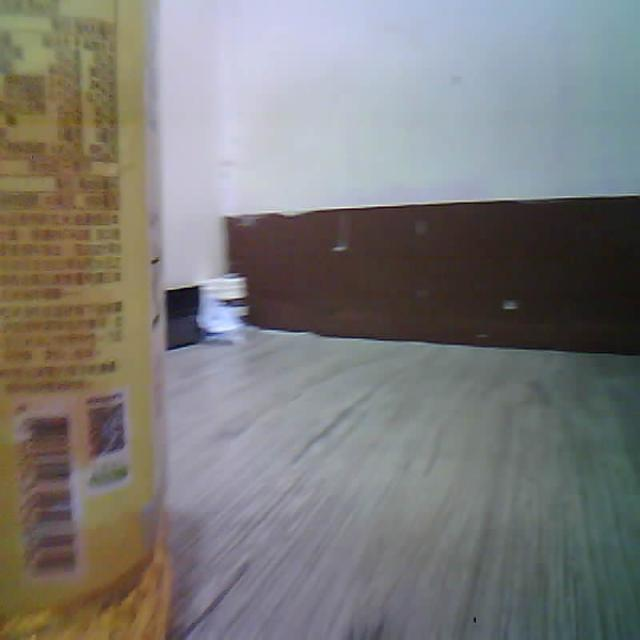bottle: (0, 0, 170, 639)
